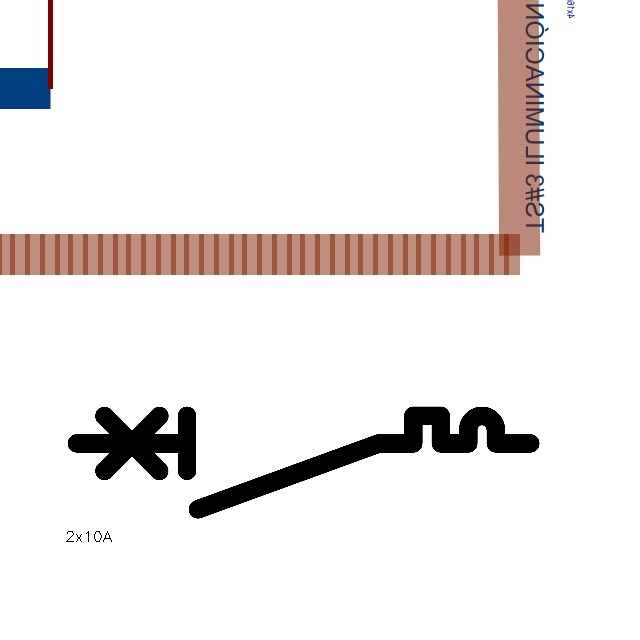interruptor_termomagnetico: (65, 404, 542, 520)
